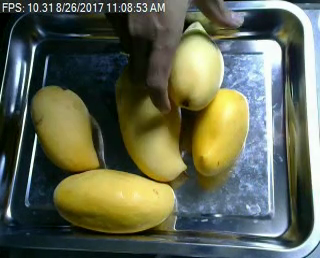Mango: (108, 57, 191, 182), (48, 167, 179, 235), (28, 81, 104, 169), (188, 84, 250, 176), (167, 22, 228, 109)
